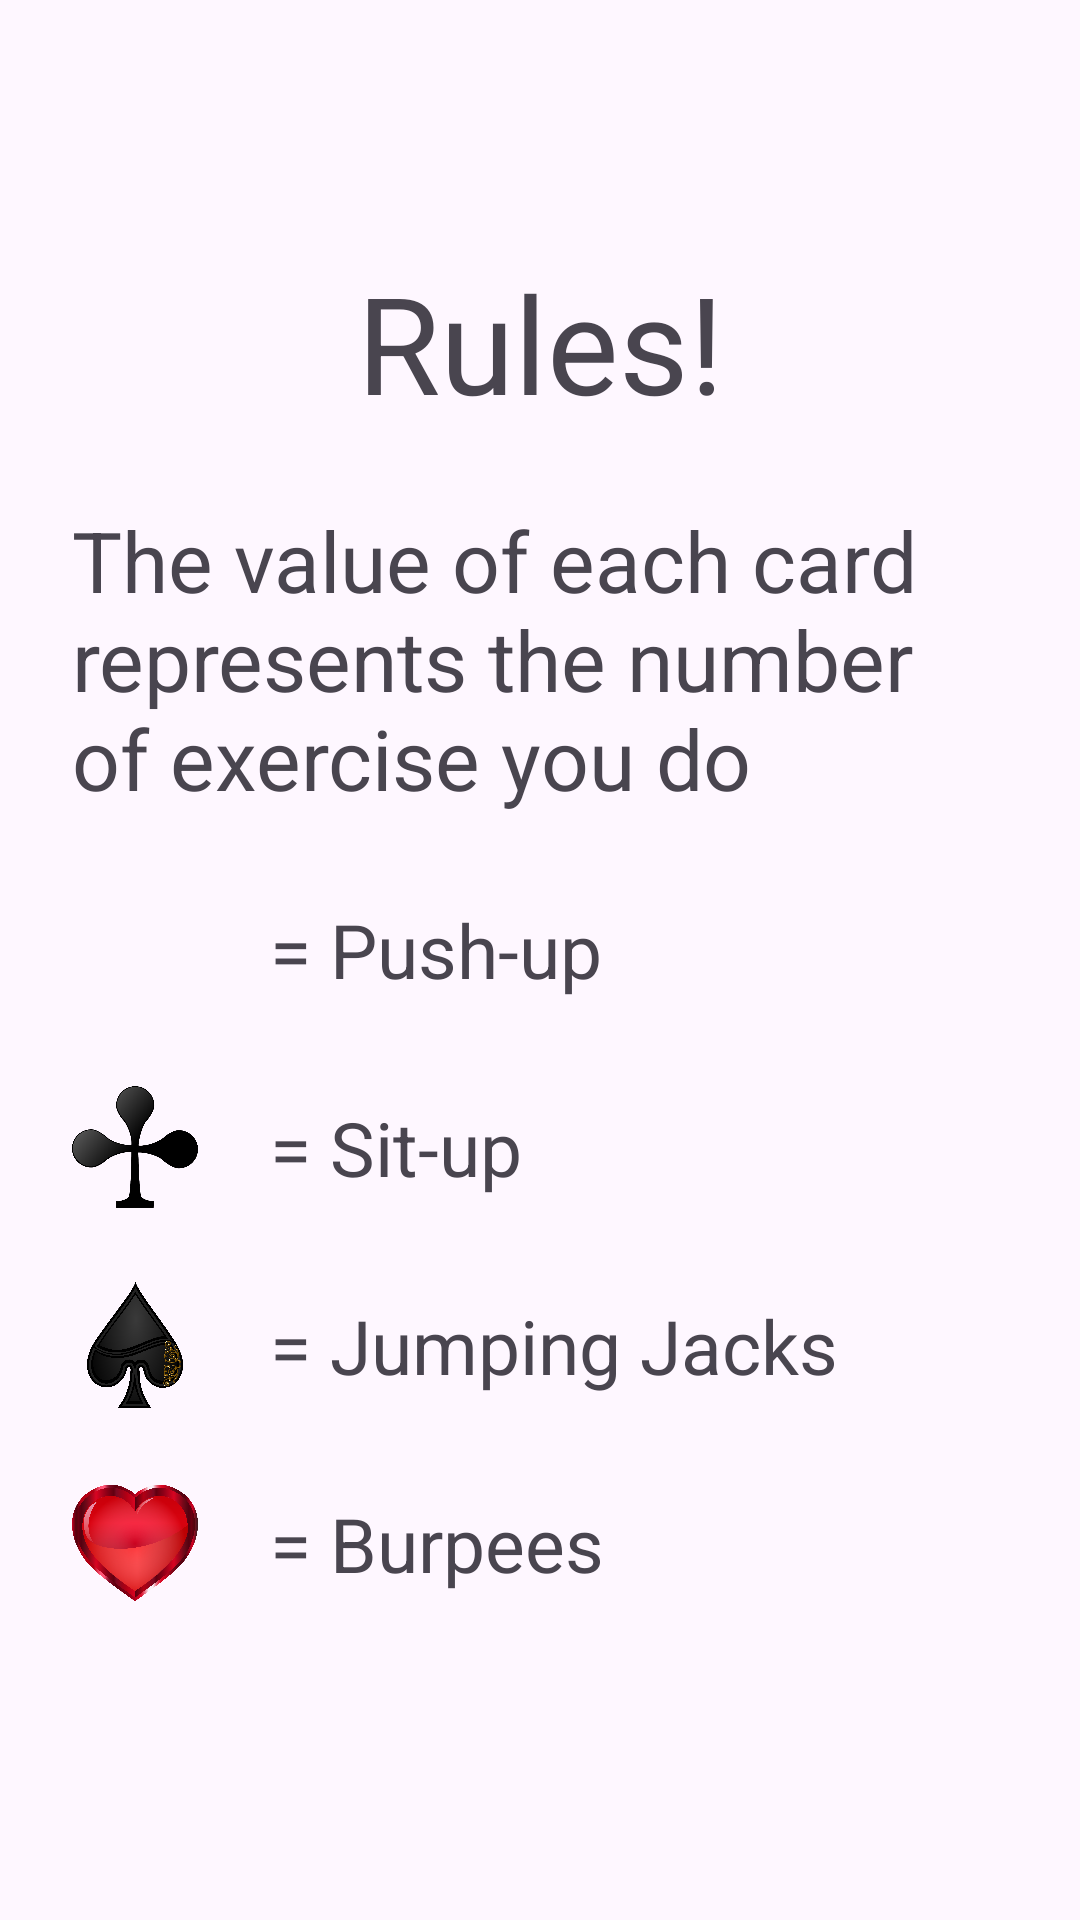

Icons on this 1080×1920 Android screen, each with its box as (x1, y1, x2, y2):
kupa: (72, 1485, 198, 1601)
maca: (87, 1282, 183, 1408)
sinek: (72, 1086, 198, 1208)
